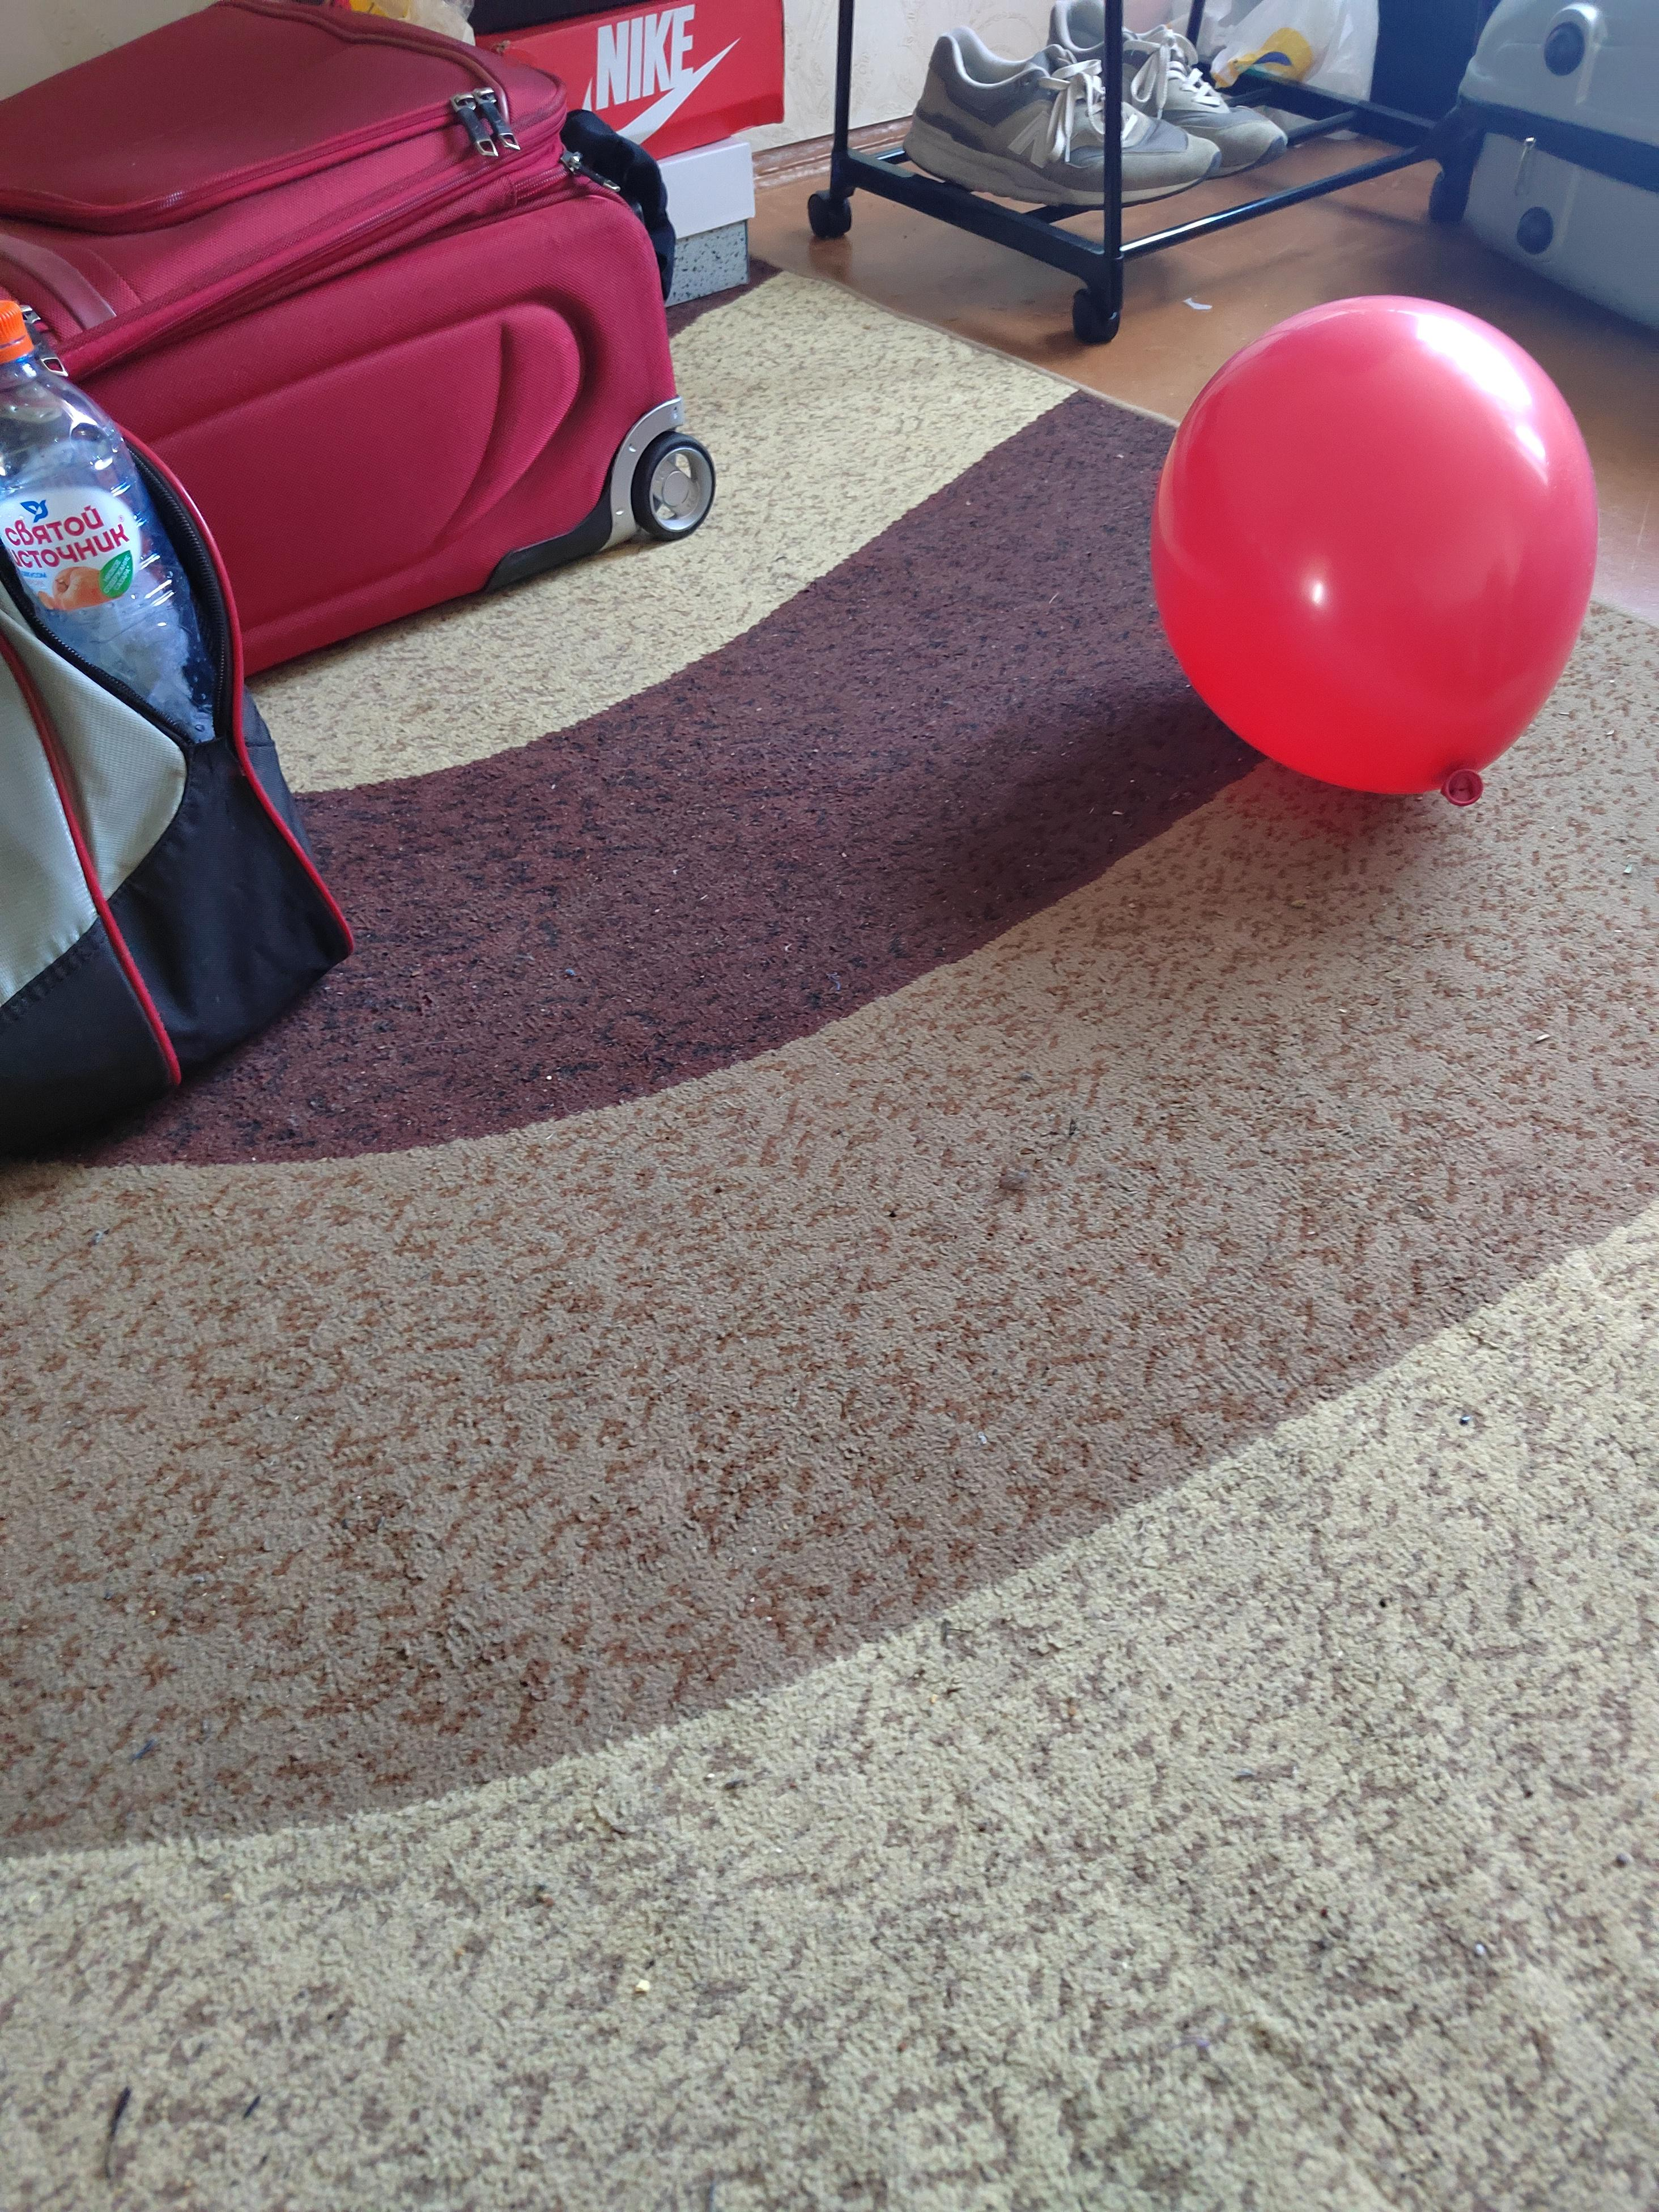red: (1140, 273, 1601, 822)
